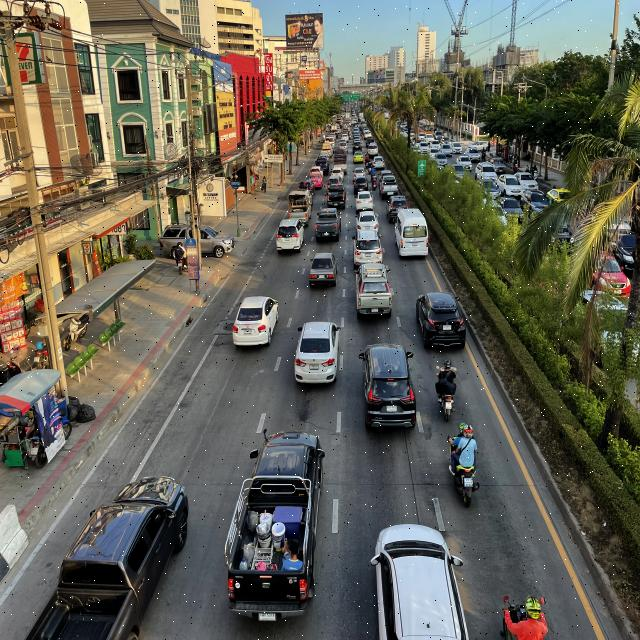bike: (445, 416, 483, 514), (499, 575, 551, 640), (430, 350, 464, 428)
car: (17, 469, 192, 640), (362, 516, 474, 640)
truck: (213, 419, 329, 626), (286, 187, 313, 230)
